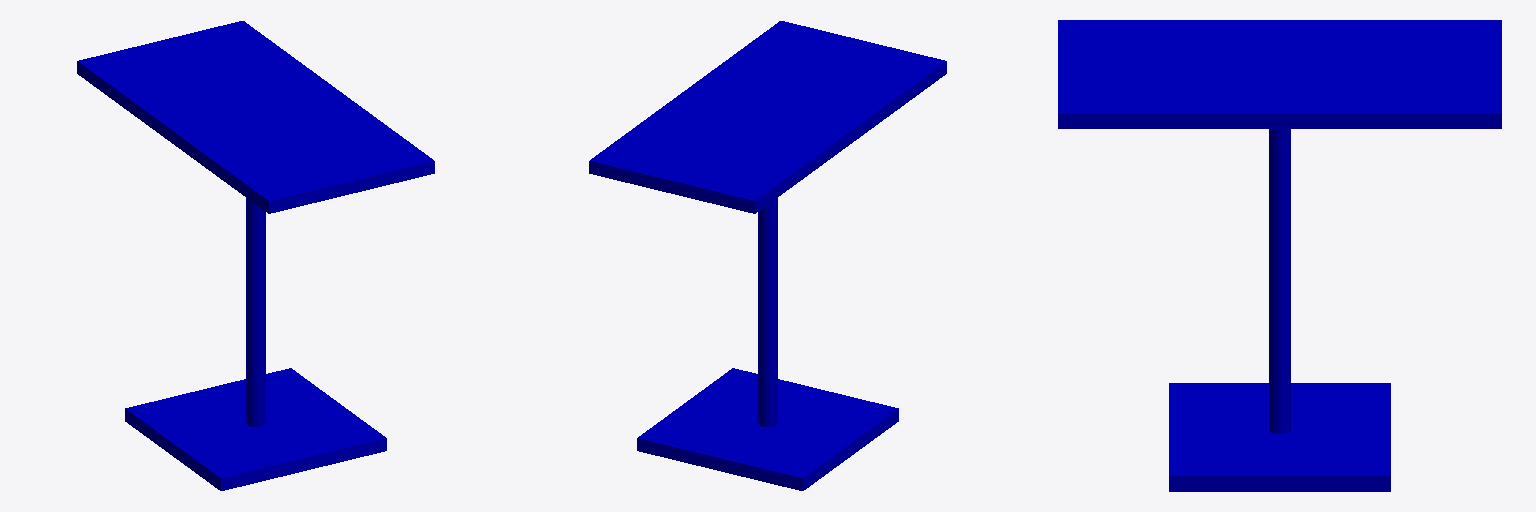
The robot description file, URDF, robot "big_table":
<?xml version="1.0" ?>
<robot name="big_table">
  <material name="blue">
    <color rgba="0 0 0.8 1"/>
  </material>

  <!--<static>true</static>-->
  <link name="link1">
    <collision name="surface">
      <origin xyz="0 0 0.735"/>
      <geometry>
        <box size="0.4 0.8 0.03"/>
      </geometry>
    </collision>
    <visual name="surface">
      <origin xyz="0 0 0.735"/>
      <geometry>
        <box size="0.4 0.8 0.03"/>
      </geometry>
      <material name="blue"/>
    </visual>
    <collision name="leg">
      <origin xyz="0 0 0.375"/>
      <geometry>
        <cylinder length="0.69" radius="0.02"/>
      </geometry>
    </collision>
    <visual name="leg">
      <origin xyz="0 0 0.375"/>
      <geometry>
        <cylinder length="0.69" radius="0.02"/>
      </geometry>
      <material name="blue"/>
    </visual>
    <collision name="base">
      <origin xyz="0 0 0.015"/>
      <geometry>
        <box size="0.4 0.4 0.03"/>
      </geometry>
    </collision>
    <visual name="base">
      <origin xyz="0 0 0.015"/>
      <geometry>
        <box size="0.4 0.4 0.03"/>
      </geometry>
      <material name="blue"/>
    </visual>
  </link>
</robot>

--- Render facts (derived) ---
The picture shows the robot from 3 angles, left to right: view 1: azimuth 30°, elevation 25°; view 2: azimuth 150°, elevation 25°; view 3: azimuth 270°, elevation 25°; orthographic projection.
Robot: big_table — 1 links, 0 joints (none); root link link1; default pose: every joint at zero.
Links seen in each view (by area): view 1: link1; view 2: link1; view 3: link1.
Boxes of the visible links, left/top/right/bottom form: link1: left=77, top=21, right=434, bottom=490; link1: left=589, top=21, right=946, bottom=490; link1: left=1058, top=20, right=1501, bottom=491.
Bounding box of the posed robot: 0.4 × 0.8 × 0.75 m (x, y, z).
Geometry: primitives only (box / cylinder / sphere), no mesh files.